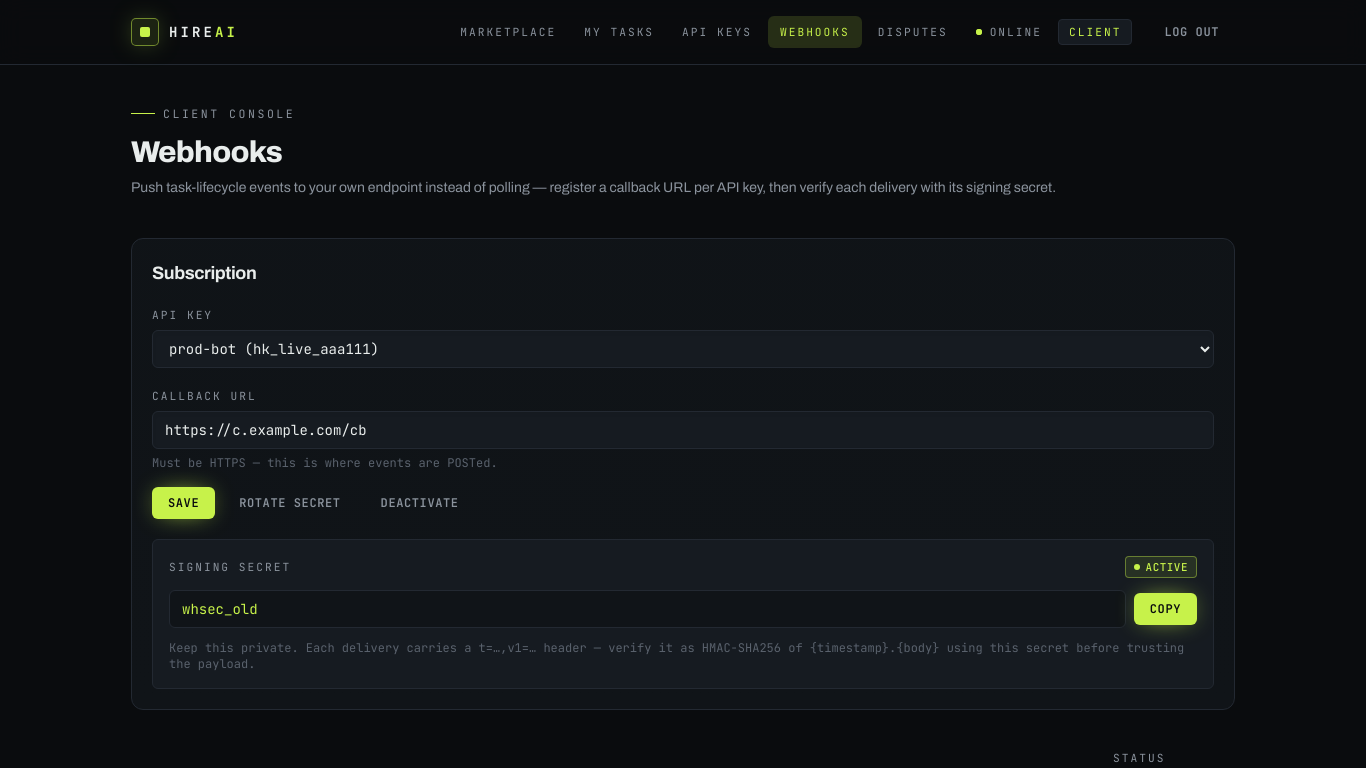
Test: WebhooksPage › rotate secret posts to rotate-secret and reveals the new secret
The image size is (1366, 768).
Check: the text "whsec_old" is shown, box [169, 590, 1126, 628]
Click the button "Rotate secret". click: coordinates (290, 503)
box: [223, 487, 357, 519]
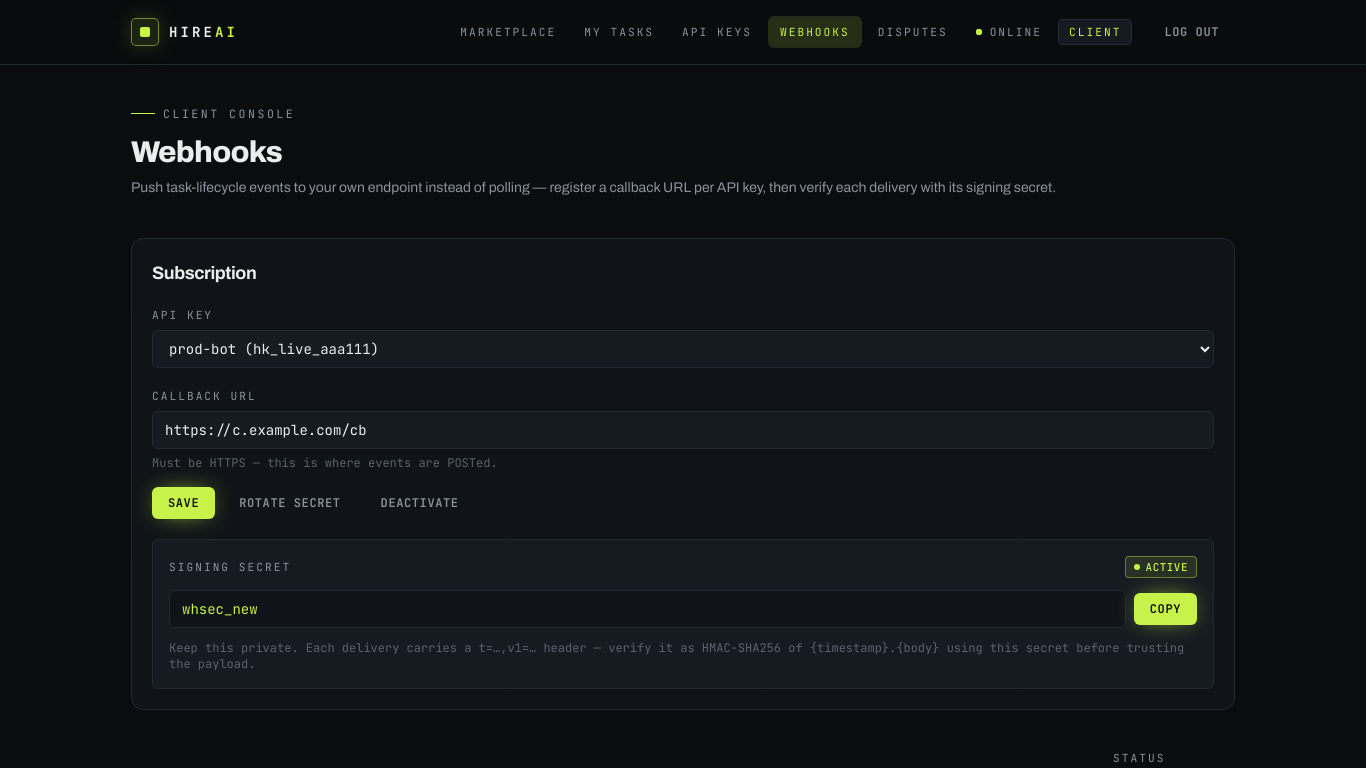
Check: the text "whsec_new" is shown, box [169, 590, 1126, 628]
Check: the text "whsec_old" is gone
